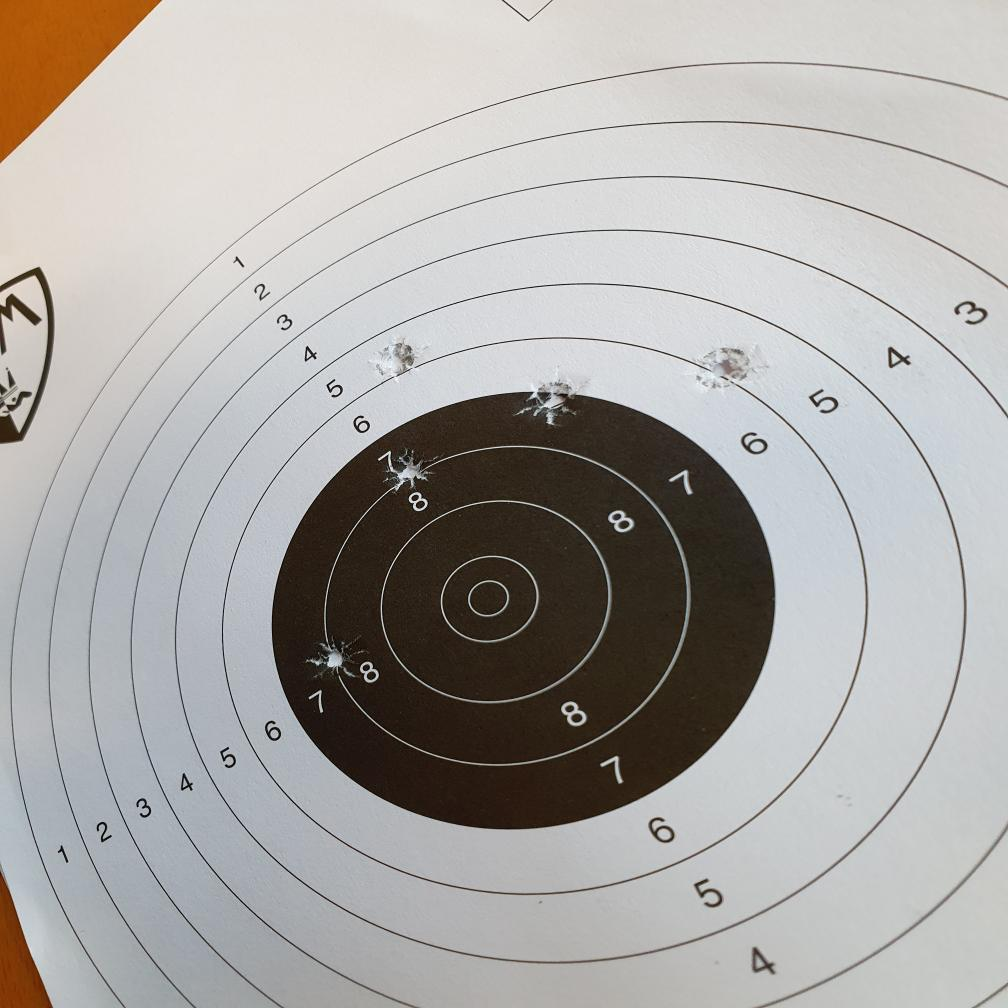6: (367, 338, 430, 386), (694, 344, 753, 388)
7: (519, 376, 589, 424)
8: (380, 448, 442, 492), (304, 639, 361, 682)
Target: (11, 62, 1008, 1008)
black_contour: (270, 388, 778, 831)
